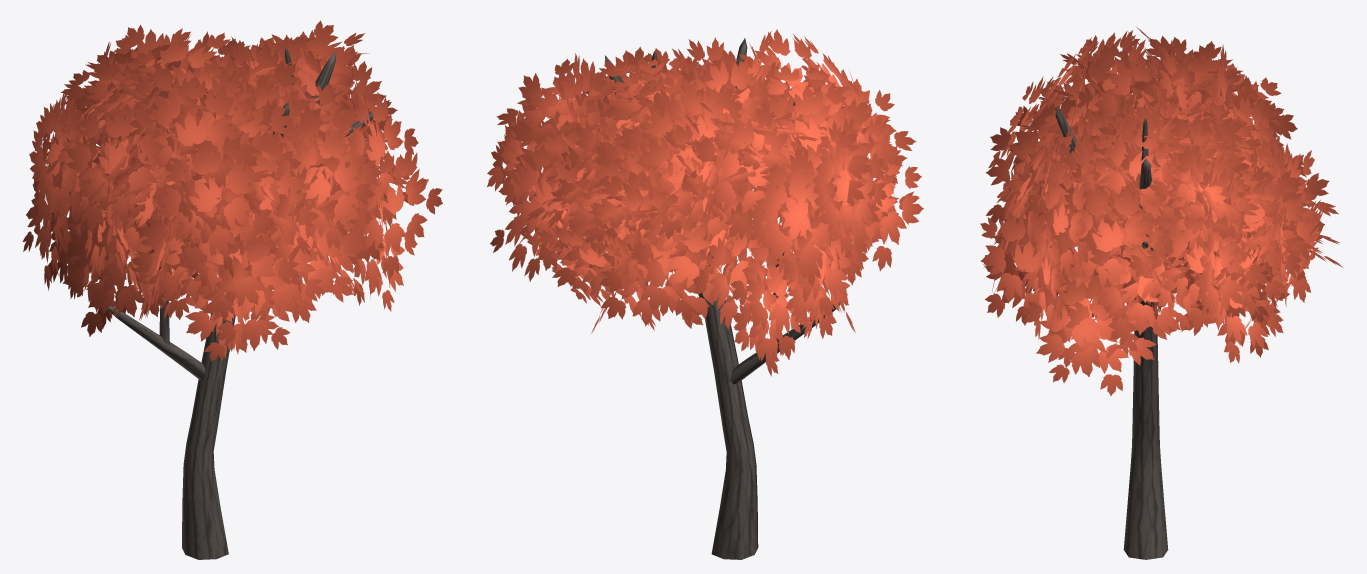
The model's file is MapleTree_4.glb.
3 renders of one model, left to right at view 1: azimuth 30°, elevation 25°; view 2: azimuth 150°, elevation 25°; view 3: azimuth 270°, elevation 25°, orthographic. The views are drawn at different scales.
Visible parts, largest first — view 1: MapleTree_4; view 2: MapleTree_4; view 3: MapleTree_4.
Boxes of the visible parts, box(x1,y1,x2,y2) form: MapleTree_4: box(22, 20, 442, 559); MapleTree_4: box(487, 29, 923, 559); MapleTree_4: box(980, 27, 1342, 559).
Bounding box in the file's own units: 2.77 × 3.59 × 2.44.
Materials: 2 (2 with a texture image).
